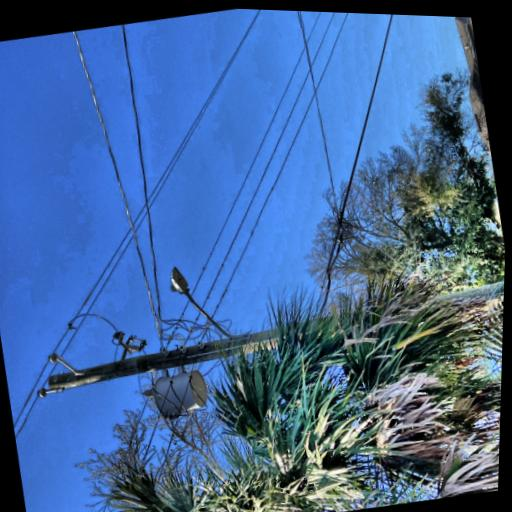insulator: (47, 198, 58, 212), (15, 185, 26, 198)
pole: (10, 187, 143, 512)
street light: (62, 331, 153, 428)
transformer: (0, 310, 50, 379)
vegetation_encroachment: (6, 381, 131, 512)
